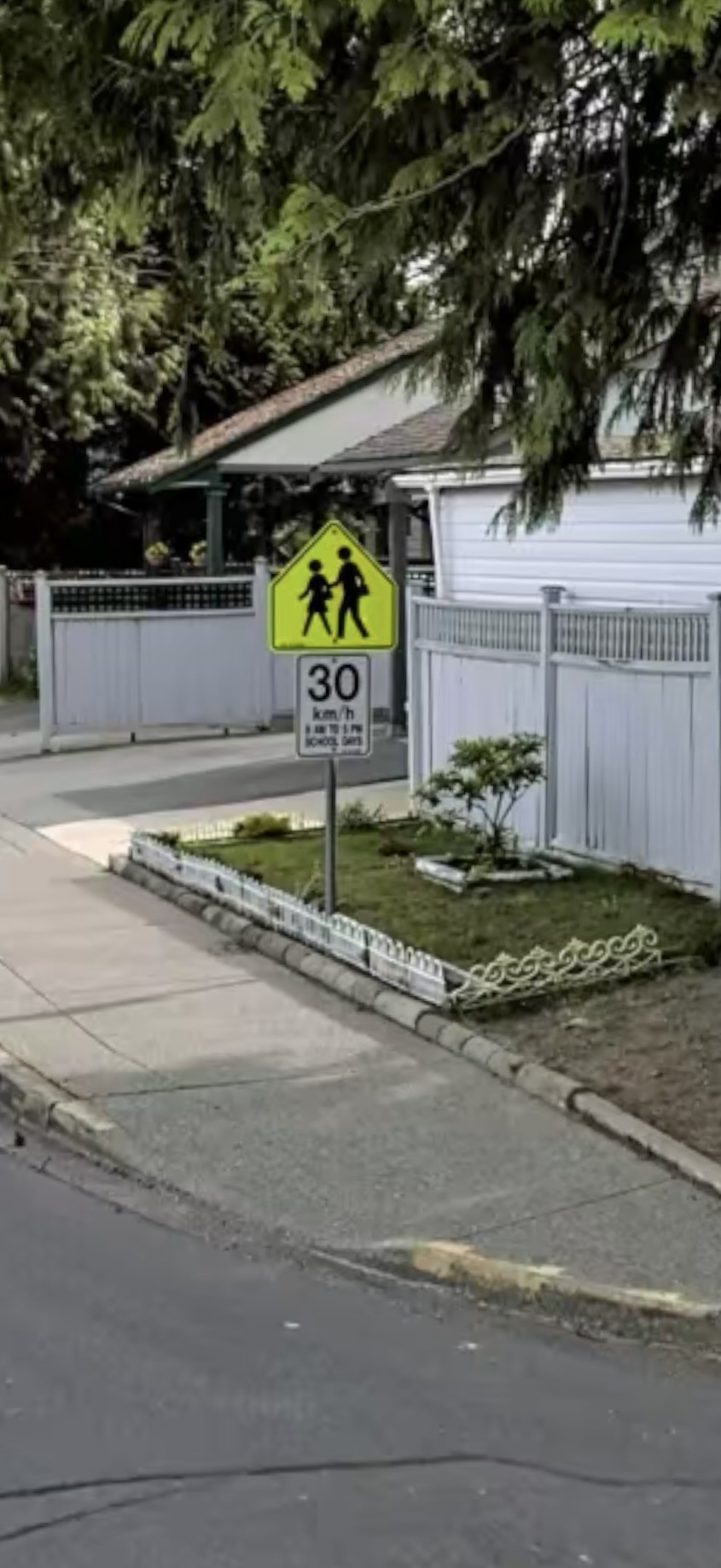school_zone: (251, 469, 433, 655)
speed_limit: (267, 658, 419, 782)
